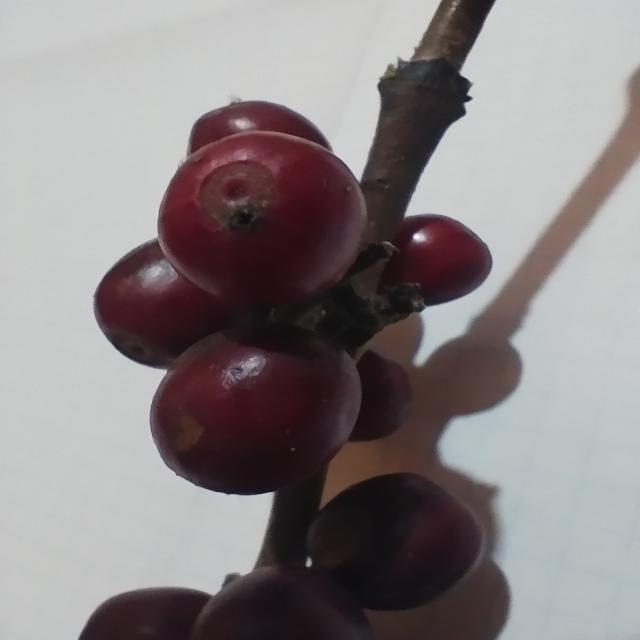Infectado: (158, 133, 367, 309)
Sano: (149, 325, 364, 497)
